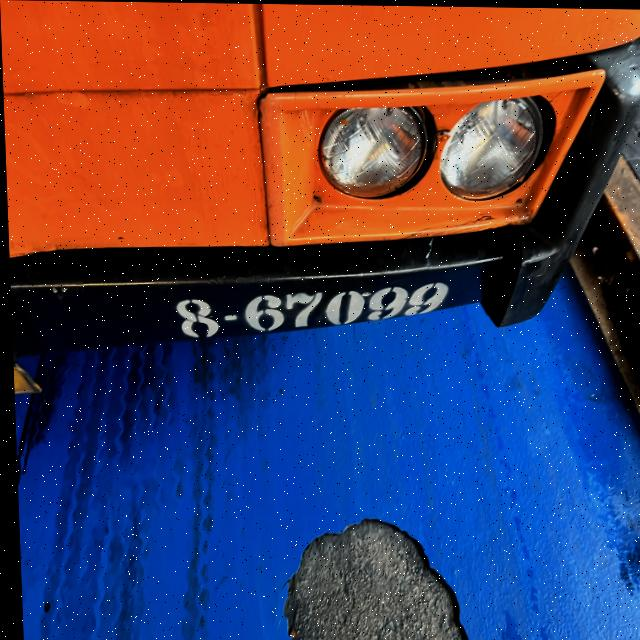BMTA-bus: (0, 0, 640, 359)
Bus Side Number: (168, 270, 456, 345)
